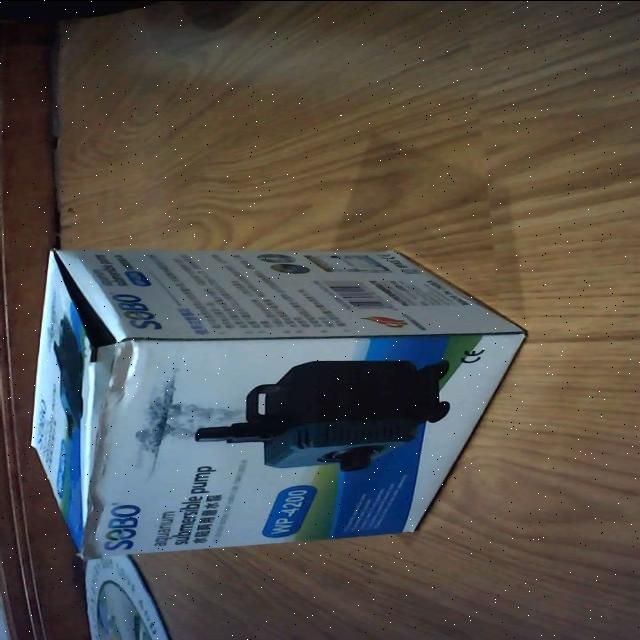SOBO_WP_4200: (23, 244, 530, 562)
